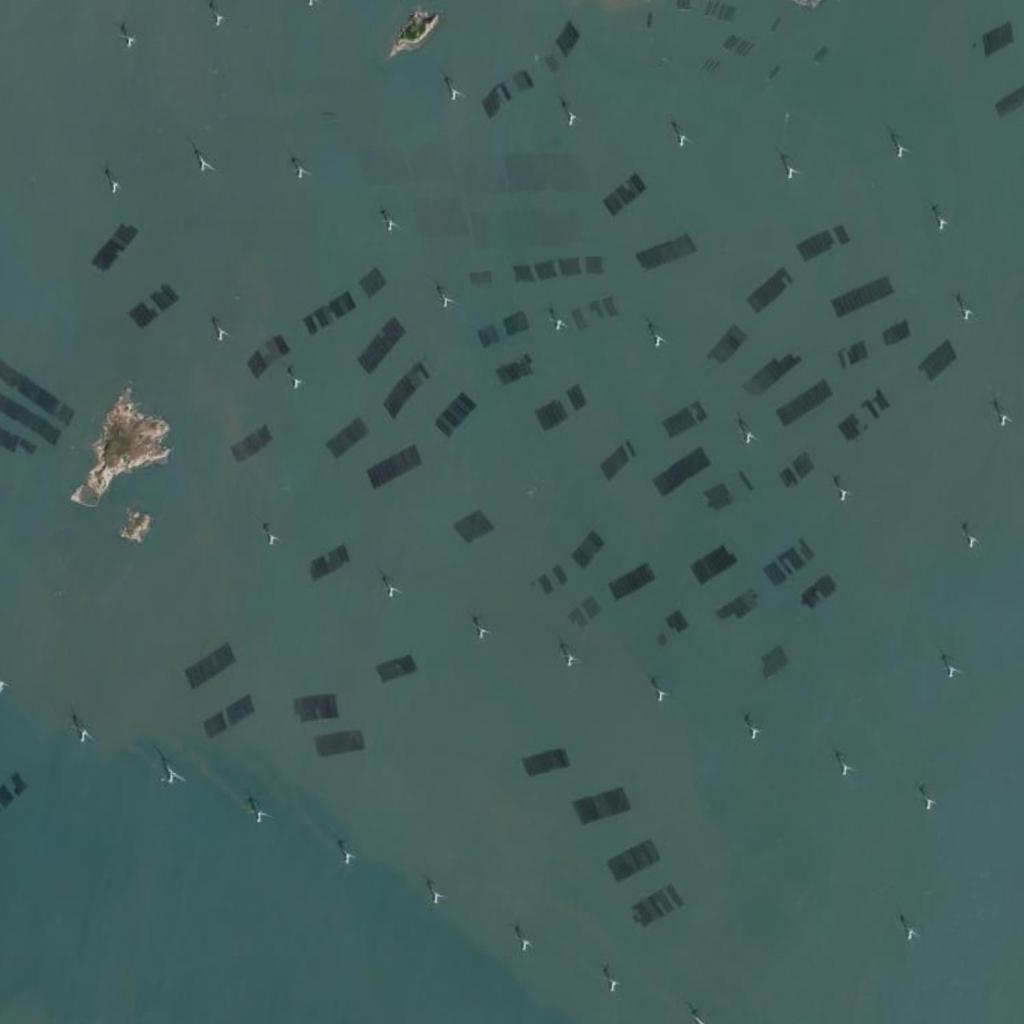bybrid: (881, 121, 918, 165), (95, 163, 134, 201), (985, 398, 1021, 434), (283, 148, 315, 188), (922, 203, 960, 236), (551, 639, 586, 673), (825, 748, 862, 780), (242, 795, 276, 828), (910, 783, 943, 816), (421, 879, 455, 911), (778, 150, 808, 186), (187, 144, 222, 174), (665, 121, 698, 152), (952, 291, 983, 324), (427, 282, 462, 311), (378, 198, 401, 242), (737, 711, 768, 743), (158, 758, 188, 791), (332, 838, 364, 868), (644, 319, 673, 352), (67, 715, 94, 750), (898, 911, 927, 943), (439, 78, 470, 106), (734, 416, 765, 444), (203, 1, 230, 32), (260, 517, 283, 553), (511, 922, 537, 953), (598, 967, 629, 993), (560, 101, 587, 130), (467, 614, 496, 641), (115, 23, 143, 50), (542, 306, 569, 334), (830, 475, 856, 504), (940, 650, 965, 678), (959, 524, 985, 550), (378, 573, 404, 599), (645, 680, 672, 704)
land: (70, 382, 175, 509), (390, 3, 442, 62), (116, 504, 160, 546)
